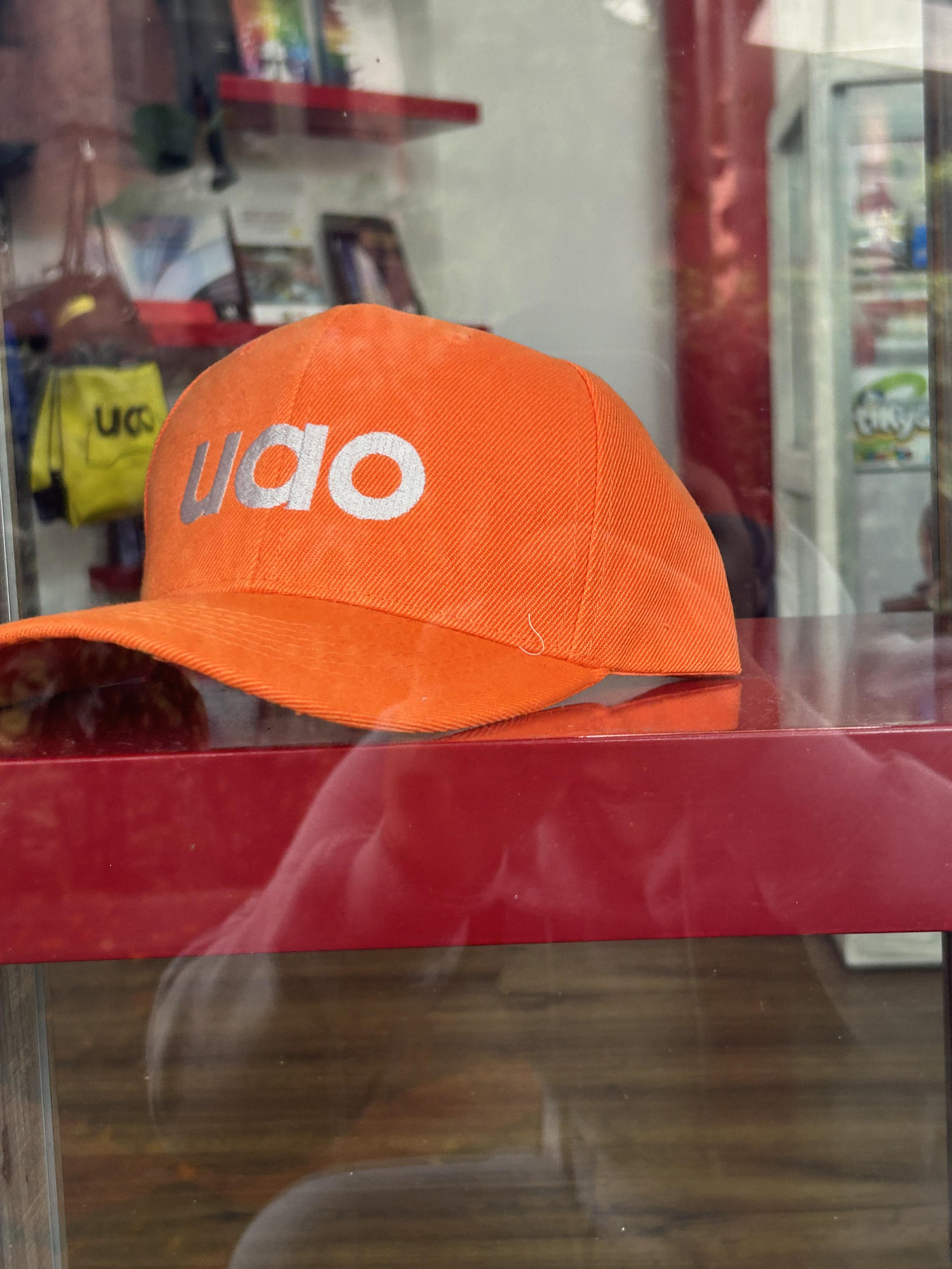gorra: (0, 305, 740, 732)
